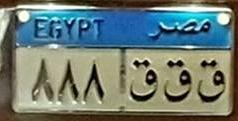8: (27, 54, 55, 106), (82, 59, 105, 107), (56, 58, 79, 106)
qaaf: (194, 57, 227, 103), (127, 58, 159, 104), (162, 59, 193, 103)
